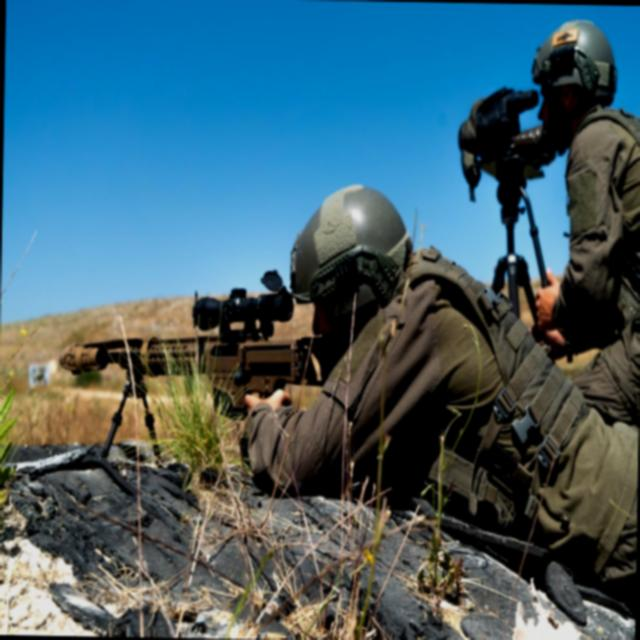rifle: (46, 266, 349, 414)
